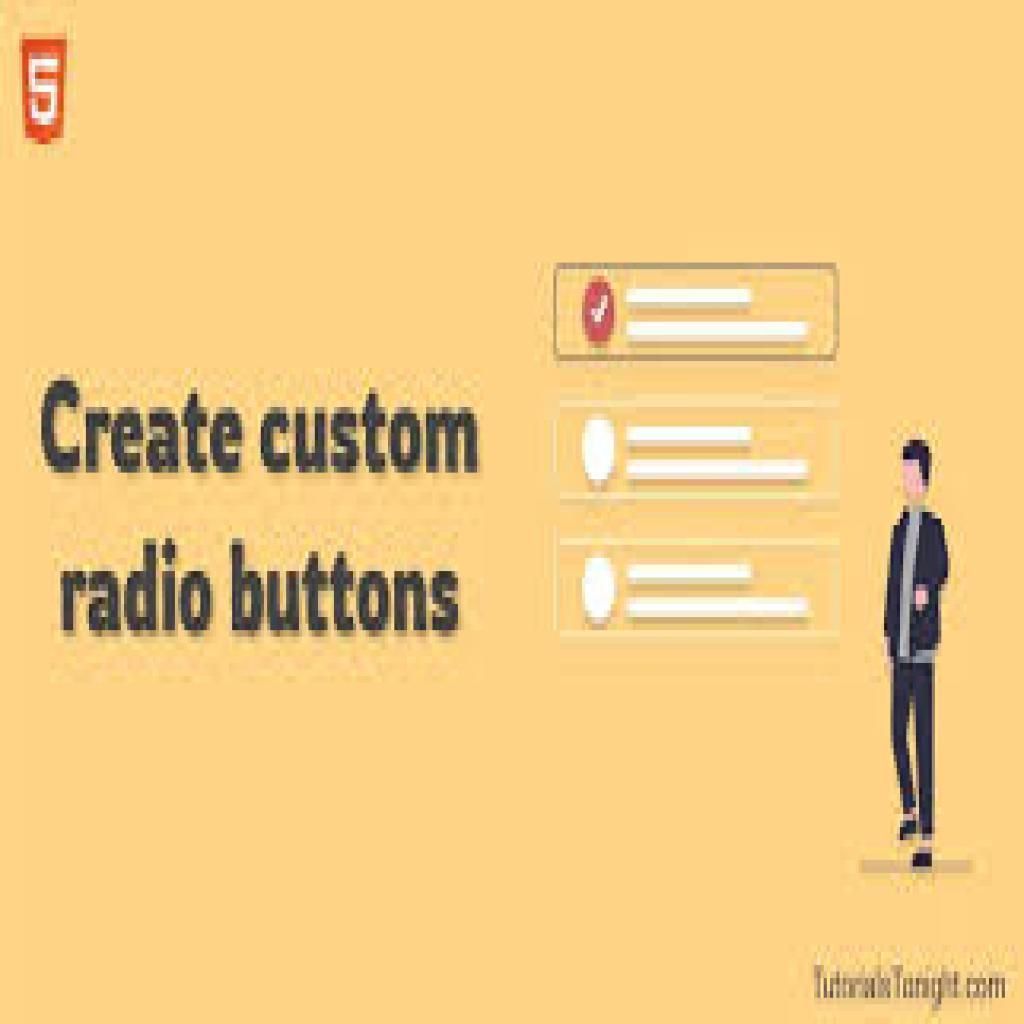radio: (576, 550, 624, 633), (579, 410, 619, 494), (578, 275, 619, 350)
